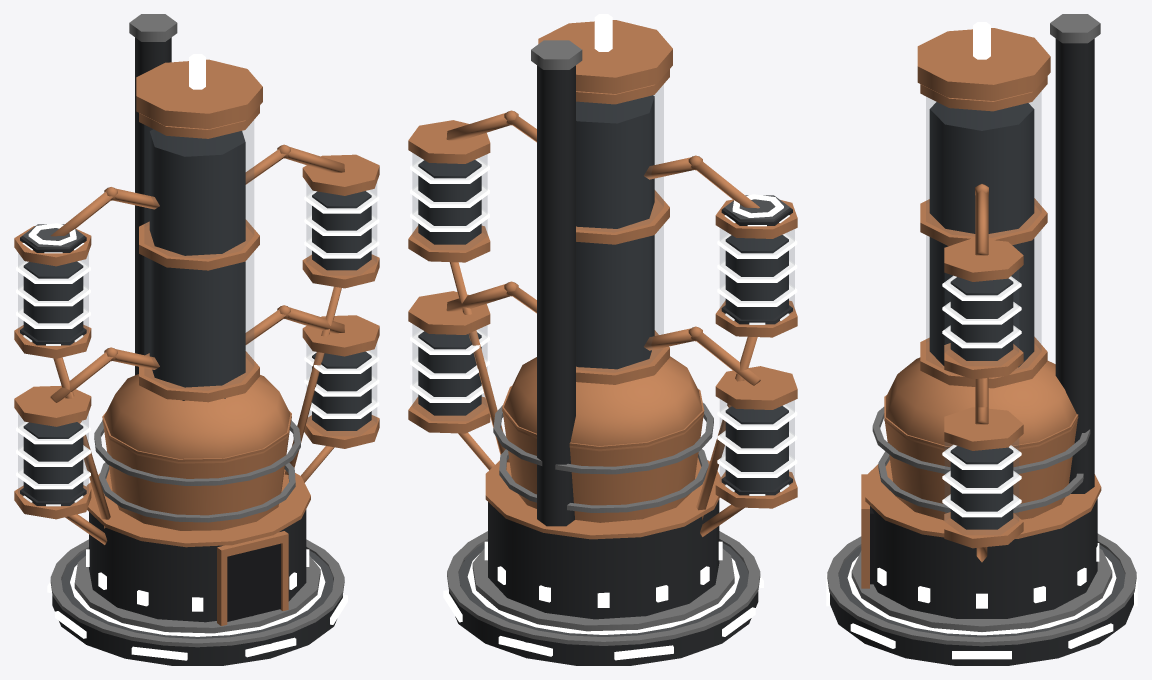
File: Skin_Distillery_T4.glb
The picture shows the model from 3 angles, left to right: view 1: azimuth 30°, elevation 25°; view 2: azimuth 150°, elevation 25°; view 3: azimuth 270°, elevation 25°; orthographic projection. The views are drawn at different scales.
Visible parts, largest first — view 1: Skin_Distillery_T4; view 2: Skin_Distillery_T4; view 3: Skin_Distillery_T4.
Part boxes in pixels (x1,y1,x2,y2): Skin_Distillery_T4: [14, 14, 379, 665]; Skin_Distillery_T4: [408, 14, 797, 665]; Skin_Distillery_T4: [826, 14, 1137, 665].
Size of the model in its own units: 5.79 by 8.57 by 4.18.
